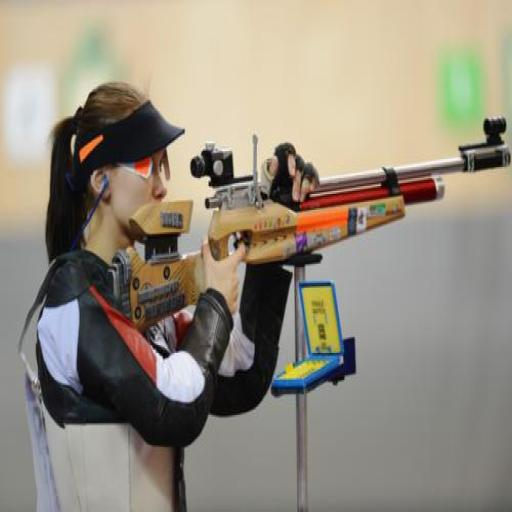shooting: (22, 80, 296, 510)
